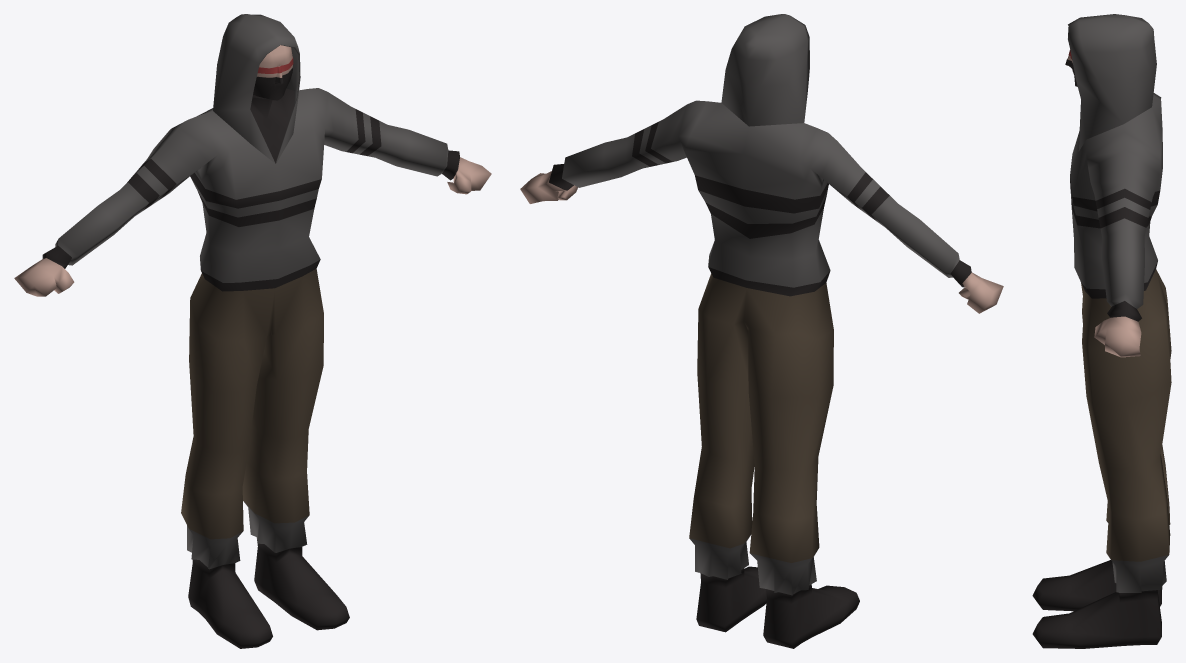
File: mainCharacter.fbx
3 views of the same model, side by side, from view 1: azimuth 30°, elevation 25°; view 2: azimuth 150°, elevation 25°; view 3: azimuth 270°, elevation 25° (orthographic). The views are drawn at different scales.
Visible parts, largest first — view 1: Base, Hood, Mask, head2; view 2: Base, Hood; view 3: Base, Hood.
Boxes of the visible parts, <box> form: Base: <box>14,88,491,648</box>; Hood: <box>213,14,300,163</box>; Mask: <box>252,67,292,100</box>; head2: <box>257,45,292,77</box>; Base: <box>520,100,1003,648</box>; Hood: <box>721,14,809,126</box>; Base: <box>1032,93,1171,648</box>; Hood: <box>1068,14,1156,151</box>.
Size of the model in its own units: 158 by 192 by 40.16.
